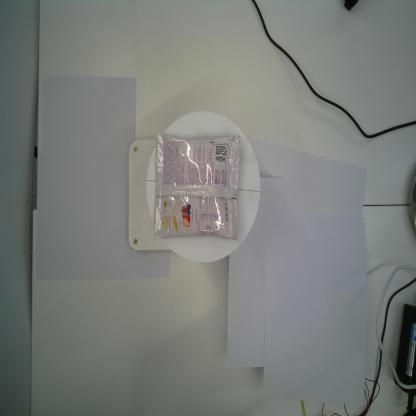Instant Drink: (153, 132, 241, 241)
